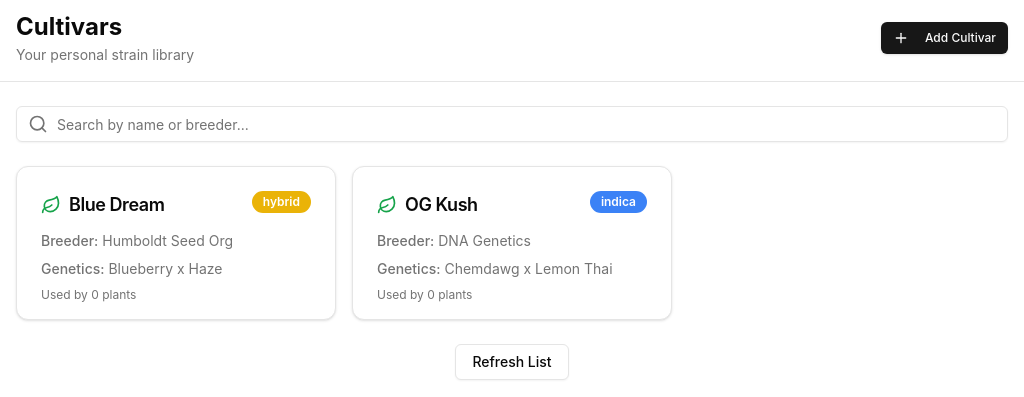
Test: CultivarsListPage › filters cultivars by name when searching
Type "blue" into the search field with placeholder "Search by name or breeder...". click: (512, 124)
box: [16,106,1008,142]
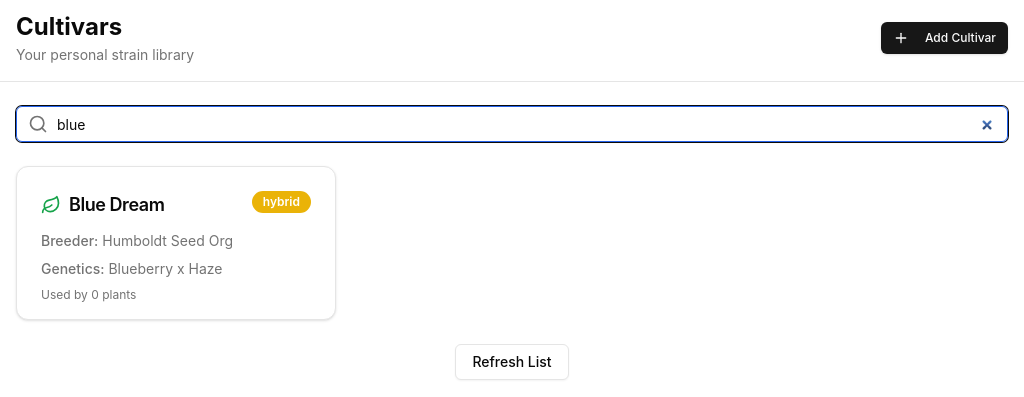
Check: the text "Blue Dream" is shown, box [69,191,164,219]
Check: the button "OG Kush" is gone
